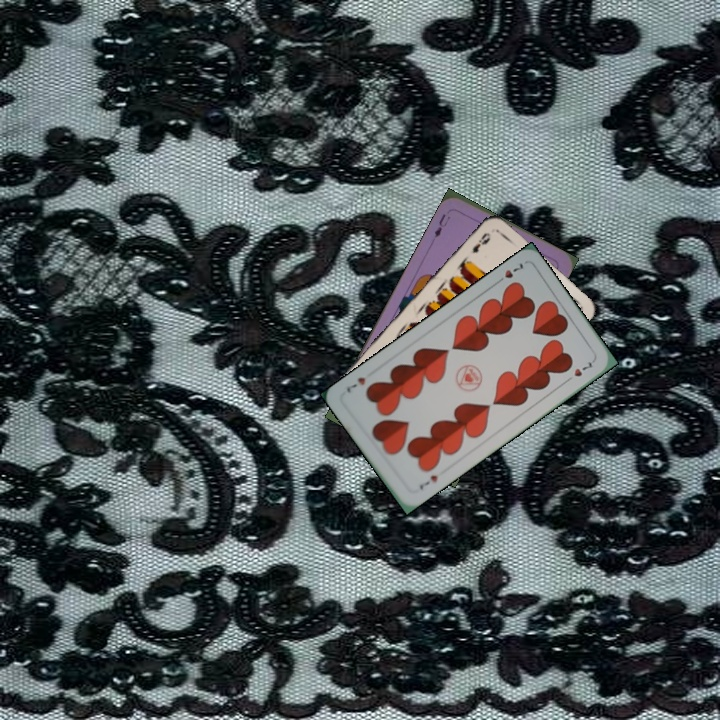E9: (468, 228, 493, 256)
EU: (430, 205, 454, 240)
H7: (491, 259, 526, 287), (415, 471, 440, 493)
